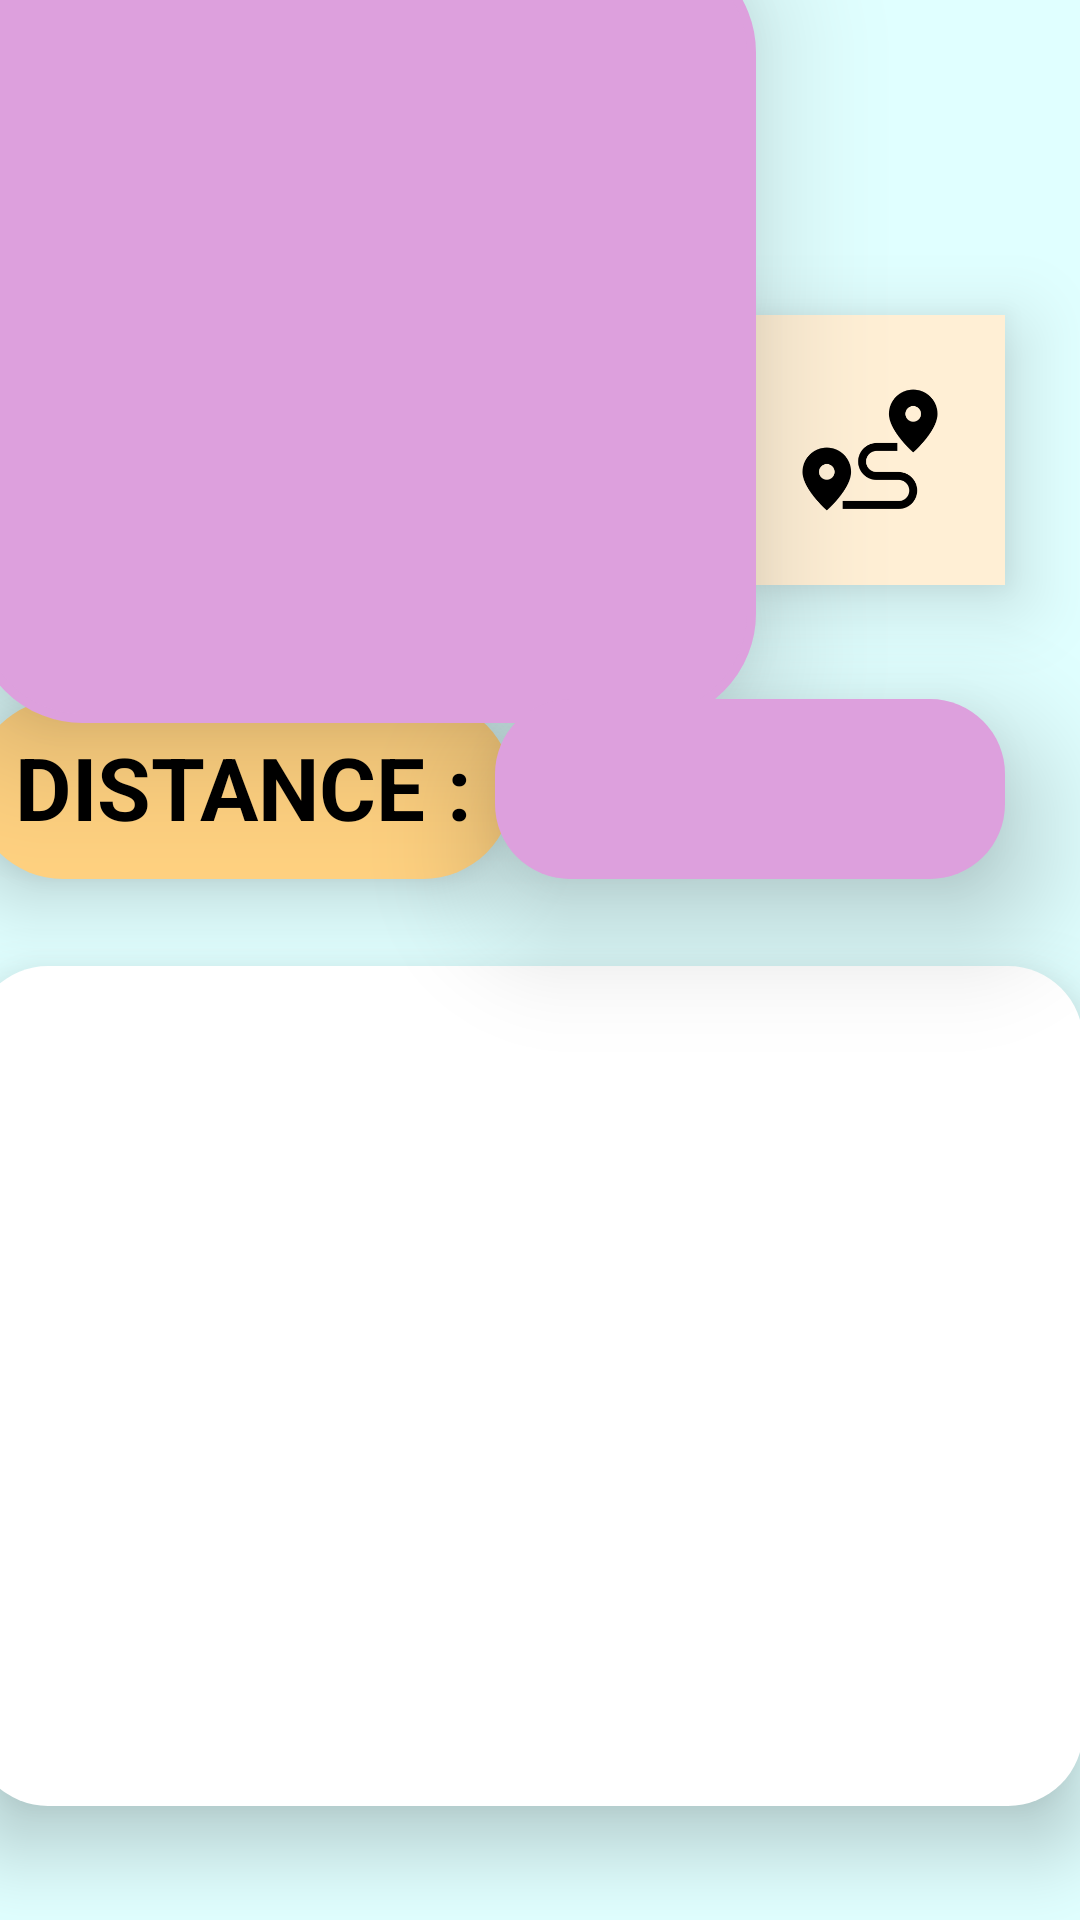

Where to tap for icons on this 1080px x 1920px app screen, as (x=x, y=y):
route: (x=870, y=450)
